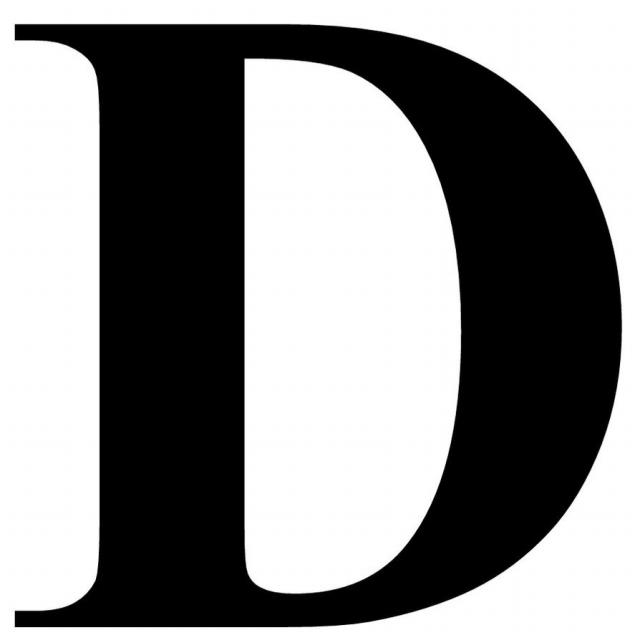D: (12, 5, 634, 640)
